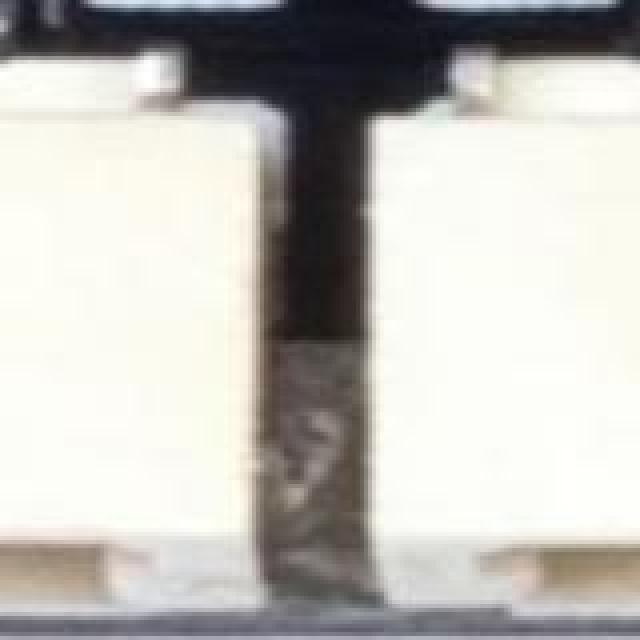connector: (0, 20, 288, 636), (380, 4, 640, 628)
